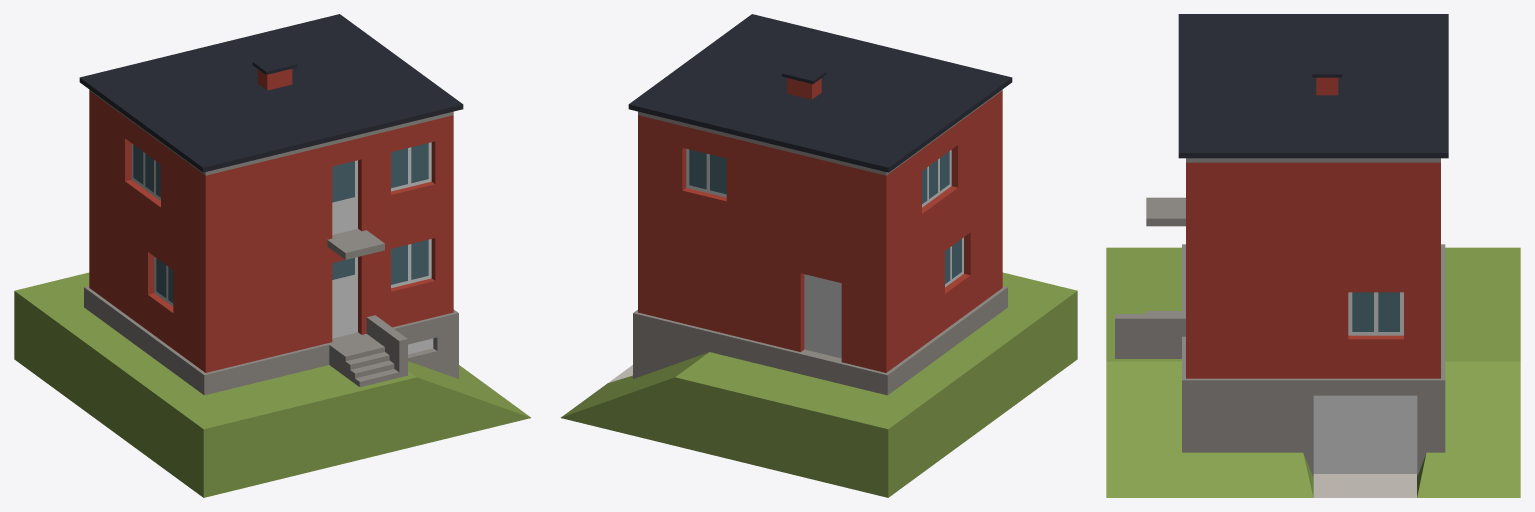
Rendered from house_bata_03.fbx.
The picture shows the model from 3 angles, left to right: view 1: azimuth 30°, elevation 25°; view 2: azimuth 150°, elevation 25°; view 3: azimuth 270°, elevation 25°; orthographic projection. The views are drawn at different scales.
Visible parts, largest first — view 1: bata_house_03; view 2: bata_house_03; view 3: bata_house_03.
Boxes of the visible parts, left/top/right/bottom form: bata_house_03: left=14, top=14, right=530, bottom=497; bata_house_03: left=560, top=14, right=1077, bottom=497; bata_house_03: left=1106, top=14, right=1520, bottom=497.
Bounding box in the file's own units: 1000 × 929 × 1000.
